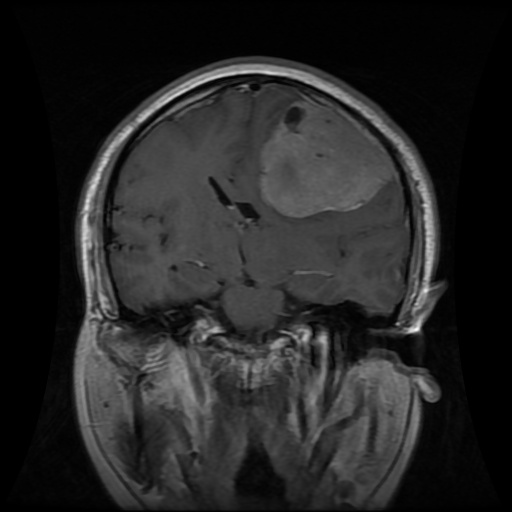meningioma: (258, 98, 395, 217)
